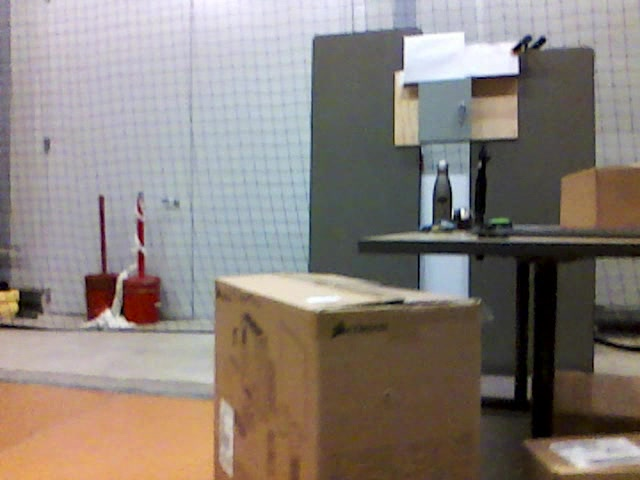box: (215, 274, 482, 480), (523, 433, 640, 480), (554, 370, 640, 430), (560, 167, 640, 228)
